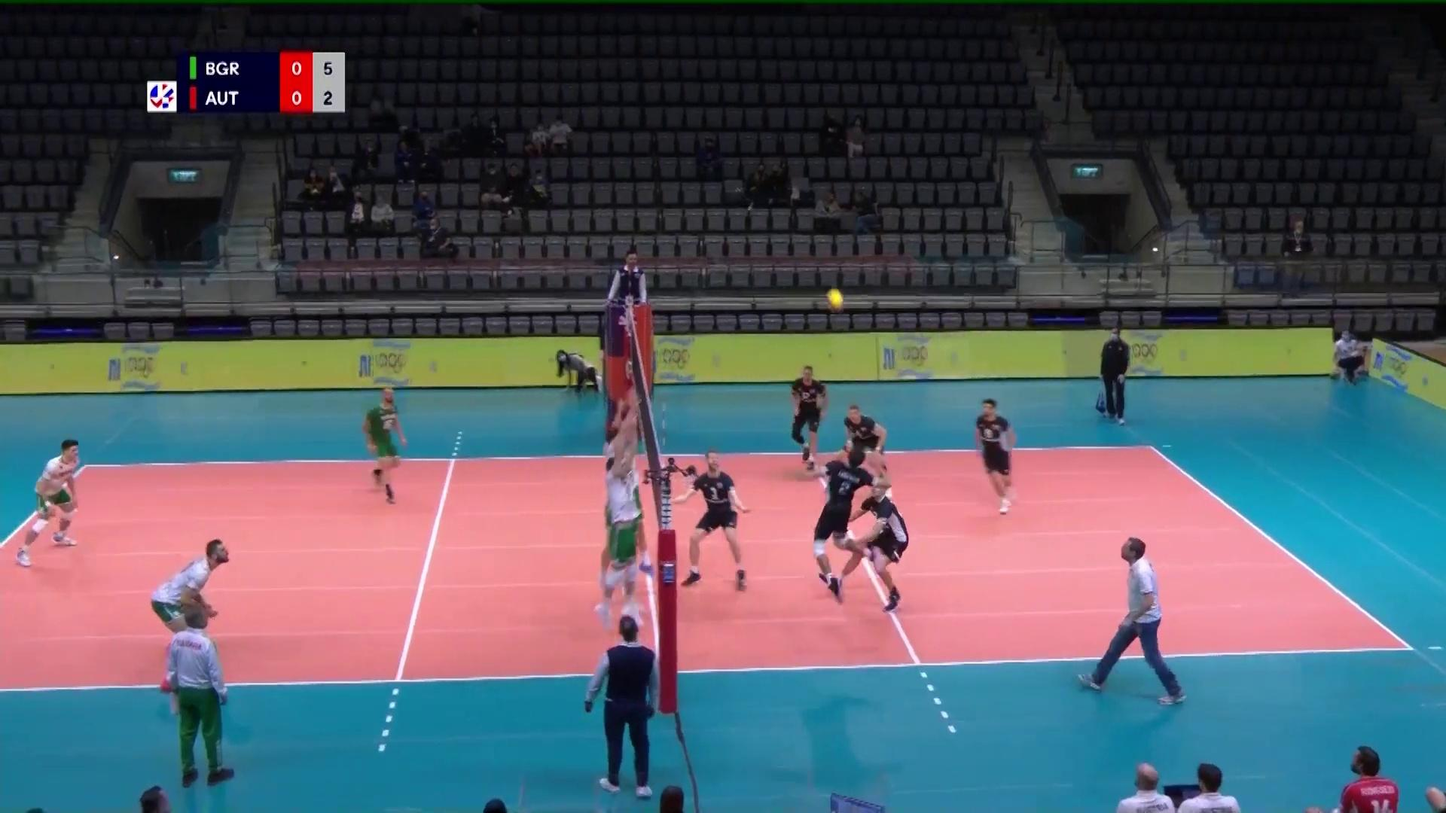ball: (825, 289, 843, 312)
